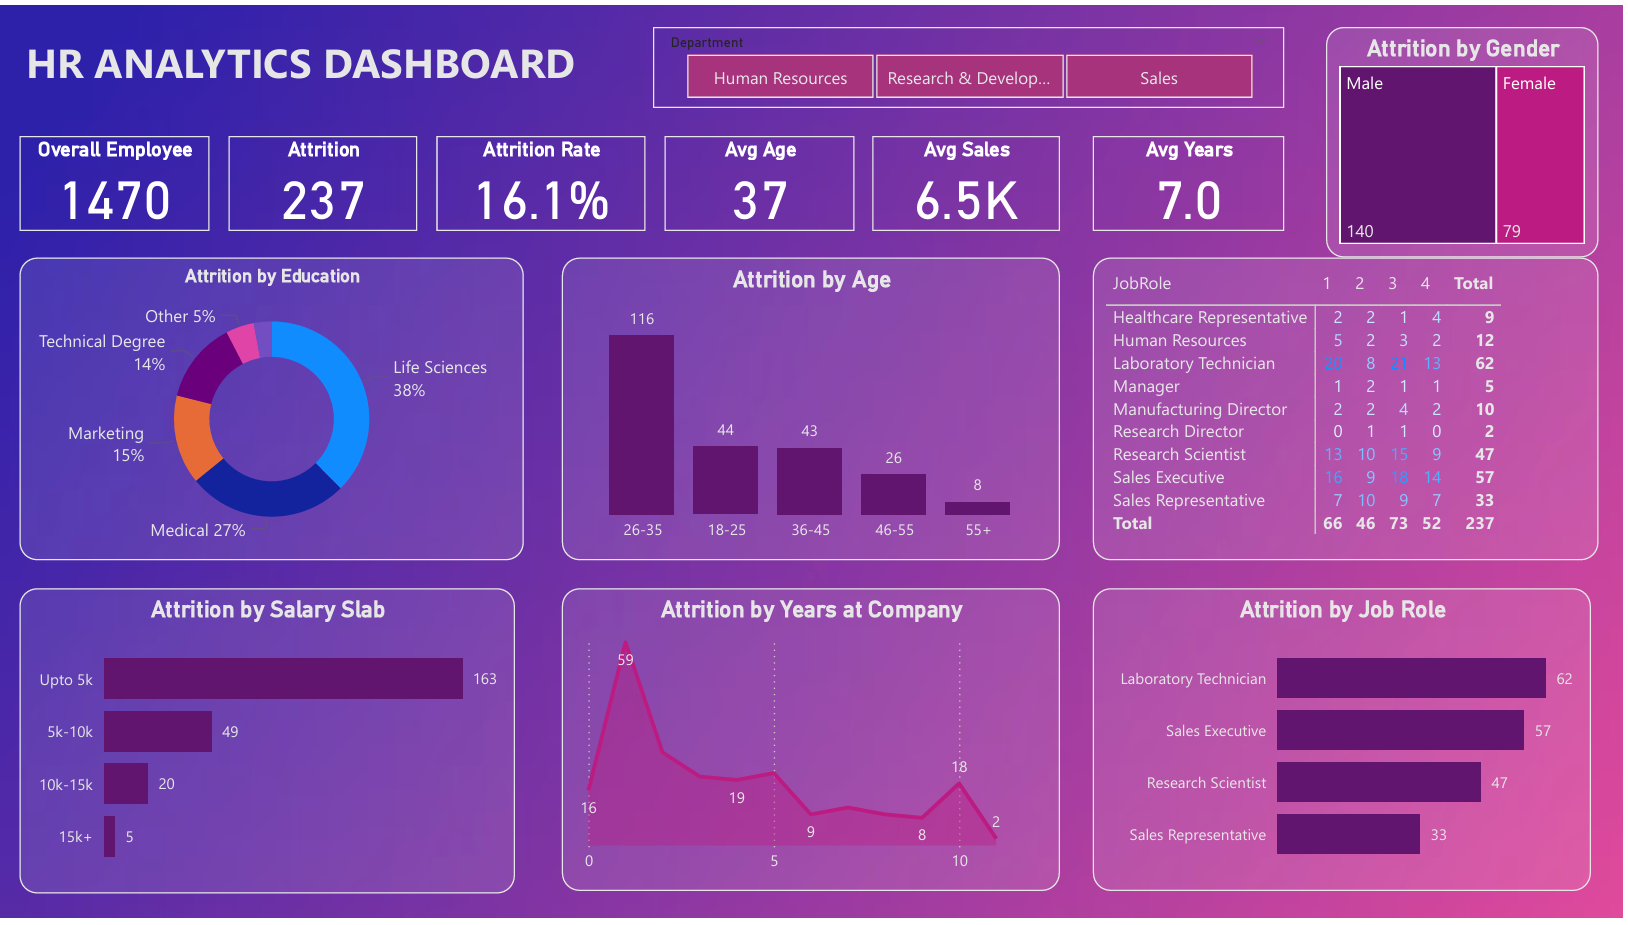

Layout of this report page (visuals, bound fields, positions):
{"tool":"powerbi","page":{"name":"Page 1","canvas":[1280,720],"ordinal":0},"visuals":[{"type":"card","title":"Overall Employee","fields":{"Values":["CountNonNull(HR_Analytics.EmpID)"]},"box":[15,103.3,150.3,75.1],"z":0},{"type":"card","title":"Attrition","fields":{"Values":["Sum(HR_Analytics.AttritionCount)"]},"box":[180.4,103.3,148.4,75.1],"z":1000},{"type":"card","title":"Attrition Rate","fields":{"Values":["HR_Analytics.AttritionRate"]},"box":[343.8,103.3,165.3,75.1],"z":2000},{"type":"card","title":"Avg Age","fields":{"Values":["Avg(HR_Analytics.Age)"]},"box":[524.2,103.3,150.3,75.1],"z":3000},{"type":"card","title":"Avg Sales","fields":{"Values":["Avg(HR_Analytics.MonthlyIncome)"]},"box":[687.6,103.3,148.4,75.1],"z":4000},{"type":"card","title":"Avg Years","fields":{"Values":["Avg(HR_Analytics.YearsAtCompany)"]},"box":[862.3,103.3,150.3,75.1],"z":5000},{"type":"donutChart","title":"Attrition by Education","fields":{"Category":["HR_Analytics.EducationField"],"Y":["Sum(HR_Analytics.AttritionCount)"]},"box":[15,199.1,398.3,238.6],"z":6000},{"type":"columnChart","title":"Attrition by Age","fields":{"Category":["HR_Analytics.AgeGroup"],"Y":["Sum(HR_Analytics.AttritionCount)"]},"box":[443.4,199.1,392.6,238.6],"z":7000},{"type":"pivotTable","title":"Job Satisfaction ","fields":{"Rows":["HR_Analytics.JobRole"],"Columns":["HR_Analytics.JobSatisfaction"],"Values":["Sum(HR_Analytics.AttritionCount)"]},"box":[862.3,199.1,398.3,238.6],"z":8000},{"type":"barChart","title":"Attrition by Salary Slab","fields":{"Category":["HR_Analytics.SalarySlab"],"Y":["Sum(HR_Analytics.AttritionCount)"]},"box":[15,460.3,390.8,240.5],"z":9000},{"type":"barChart","title":"Attrition by Job Role","fields":{"Category":["HR_Analytics.JobRole"],"Y":["Sum(HR_Analytics.AttritionCount)"]},"box":[862.3,460.3,392.6,238.6],"z":10000},{"type":"areaChart","title":"Attrition by Years at Company","fields":{"Category":["HR_Analytics.YearsAtCompany"],"Y":["Sum(HR_Analytics.AttritionCount)"]},"box":[443.4,460.3,392.6,238.6],"z":11000},{"type":"treemap","title":"Attrition by Gender","fields":{"Group":["HR_Analytics.Gender"],"Values":["Sum(HR_Analytics.AttritionCount)"]},"box":[1046.4,16.9,214.2,182.2],"z":12000},{"type":"slicer","fields":{"Values":["HR_Analytics.Department"]},"box":[514.8,16.9,497.9,63.9],"z":13000},{"type":"textbox","box":[15,16.9,479.1,63.9],"z":14000}]}

Visuals, with their boxes in screenshot pixels (x1, y1, x2, y2), scaled from the page's 1280x720 canvas onto the 1628x925 screenshot:
"Overall Employee" card: [left=19, top=133, right=210, bottom=229]
"Attrition" card: [left=229, top=133, right=418, bottom=229]
"Attrition Rate" card: [left=437, top=133, right=648, bottom=229]
"Avg Age" card: [left=667, top=133, right=858, bottom=229]
"Avg Sales" card: [left=875, top=133, right=1063, bottom=229]
"Avg Years" card: [left=1097, top=133, right=1288, bottom=229]
"Attrition by Education" donutChart: [left=19, top=256, right=526, bottom=562]
"Attrition by Age" columnChart: [left=564, top=256, right=1063, bottom=562]
"Job Satisfaction " pivotTable: [left=1097, top=256, right=1603, bottom=562]
"Attrition by Salary Slab" barChart: [left=19, top=591, right=516, bottom=900]
"Attrition by Job Role" barChart: [left=1097, top=591, right=1596, bottom=898]
"Attrition by Years at Company" areaChart: [left=564, top=591, right=1063, bottom=898]
"Attrition by Gender" treemap: [left=1331, top=22, right=1603, bottom=256]
slicer - HR_Analytics.Department: [left=655, top=22, right=1288, bottom=104]
textbox: [left=19, top=22, right=628, bottom=104]
